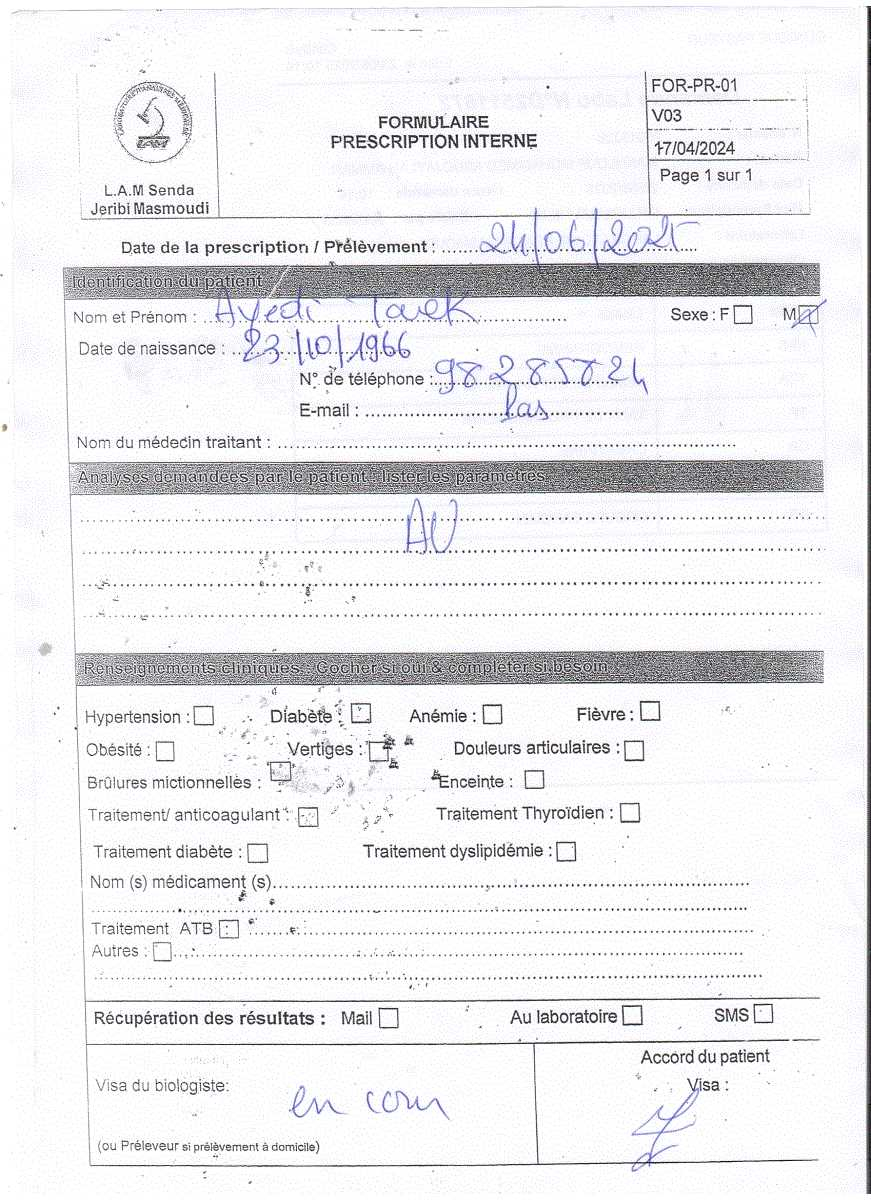zone_analyses: (71, 463, 643, 568)
zone_patient: (110, 219, 734, 256)
zone_prescripteur: (64, 269, 835, 429)
